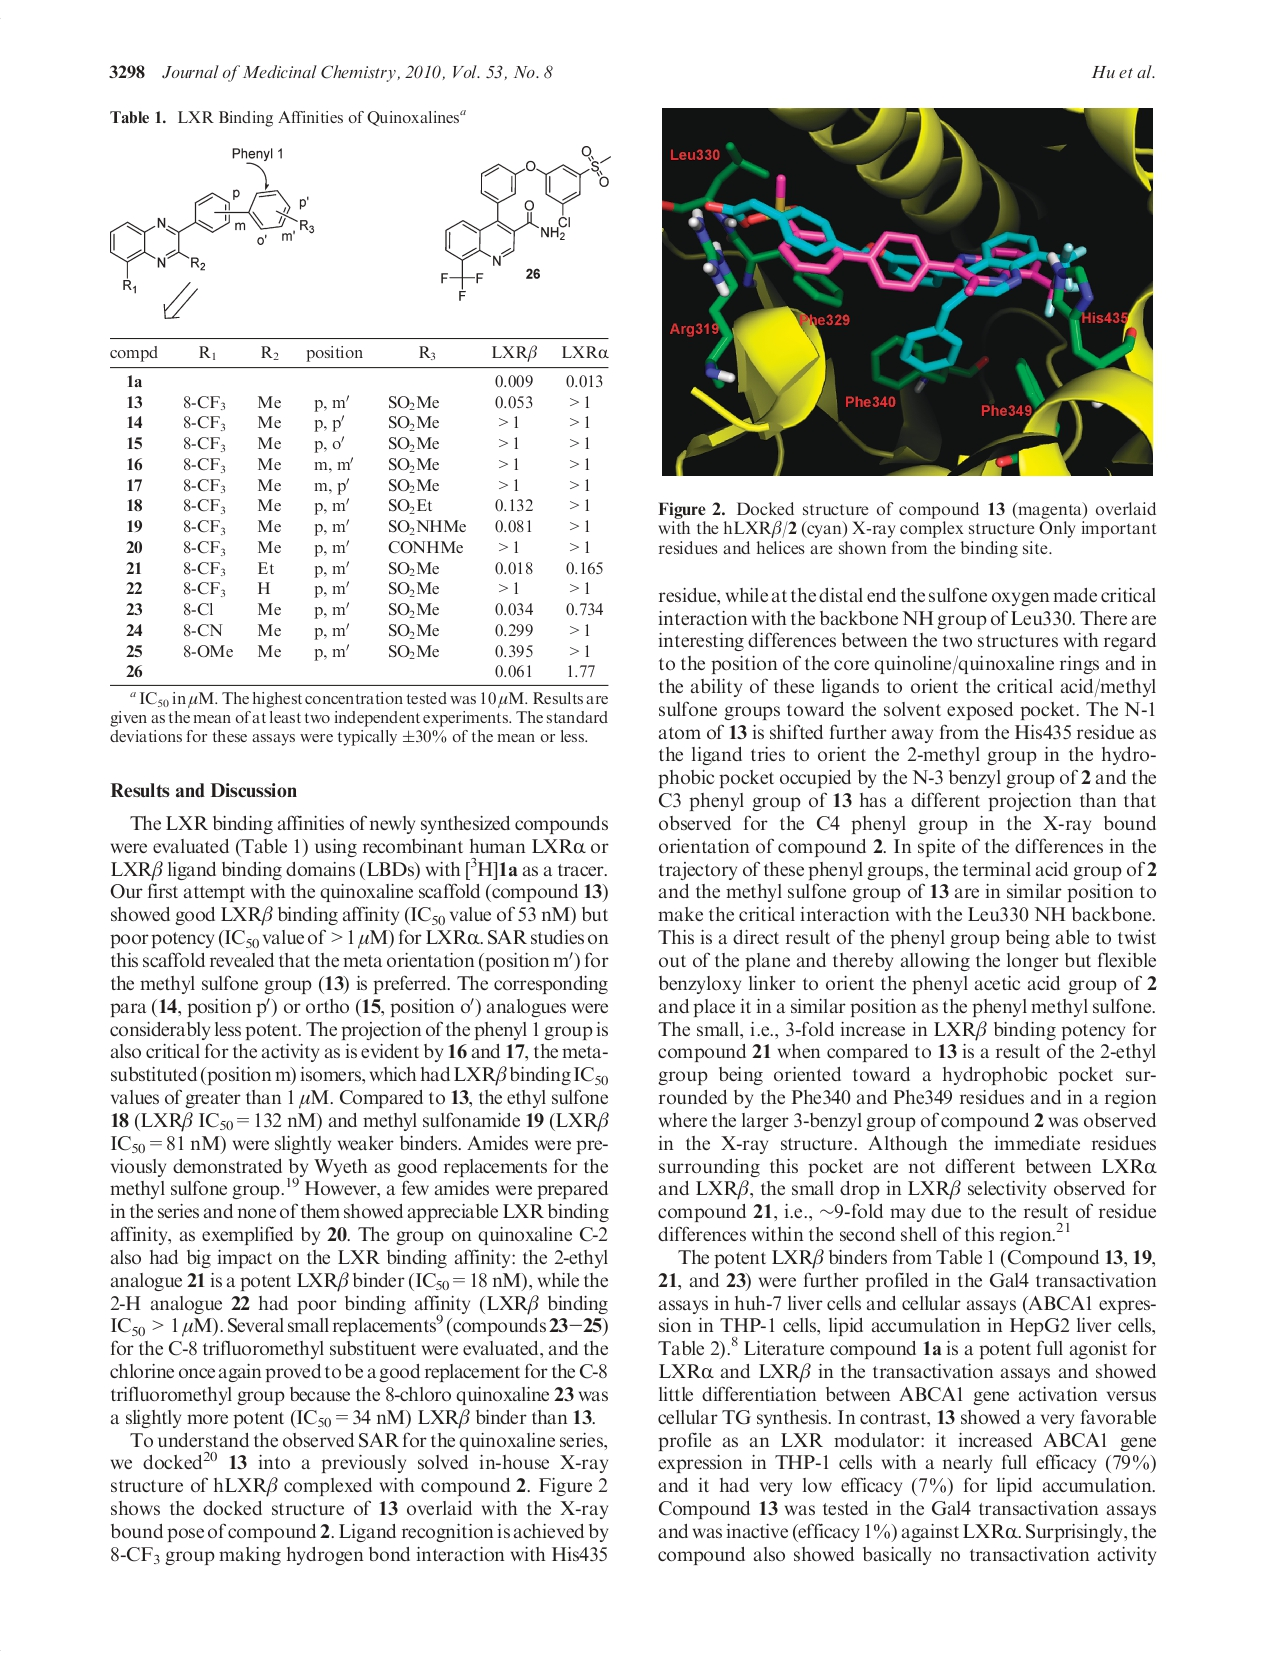exist_molecular: (106, 144, 327, 295), (440, 140, 622, 305)
